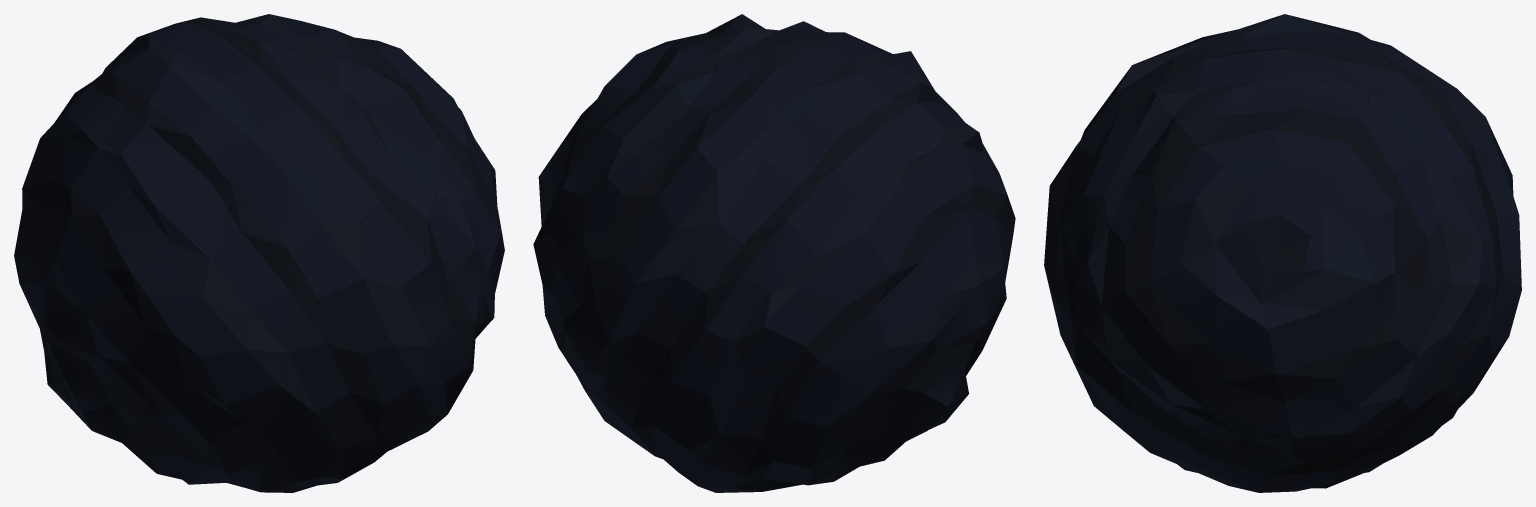
Rendered from neptune.obj.
3 renders of one model, left to right at view 1: azimuth 30°, elevation 25°; view 2: azimuth 150°, elevation 25°; view 3: azimuth 270°, elevation 25°, orthographic. The views are drawn at different scales.
Parts seen in each view (by area): view 1: Neptune_Neptune.001, Neptune_NeptuneHighlights.001, Neptune_NetuneExtraHighlights.001; view 2: Neptune_Neptune.001, Neptune_NeptuneHighlights.001, Neptune_NetuneExtraHighlights.001; view 3: Neptune_Neptune.001, Neptune_NeptuneHighlights.001, Neptune_NetuneExtraHighlights.001.
Part boxes in pixels (x1,y1,x2,y2): Neptune_Neptune.001: [14, 14, 504, 492]; Neptune_NeptuneHighlights.001: [14, 14, 494, 485]; Neptune_NetuneExtraHighlights.001: [22, 17, 501, 492]; Neptune_Neptune.001: [533, 14, 1013, 492]; Neptune_NeptuneHighlights.001: [539, 27, 1006, 485]; Neptune_NetuneExtraHighlights.001: [533, 14, 1015, 491]; Neptune_Neptune.001: [1057, 14, 1521, 492]; Neptune_NeptuneHighlights.001: [1044, 14, 1521, 492]; Neptune_NetuneExtraHighlights.001: [1059, 29, 1502, 488].
Size of the model in its own units: 3.14 by 3.01 by 3.1.
3 materials, 3 textured.
